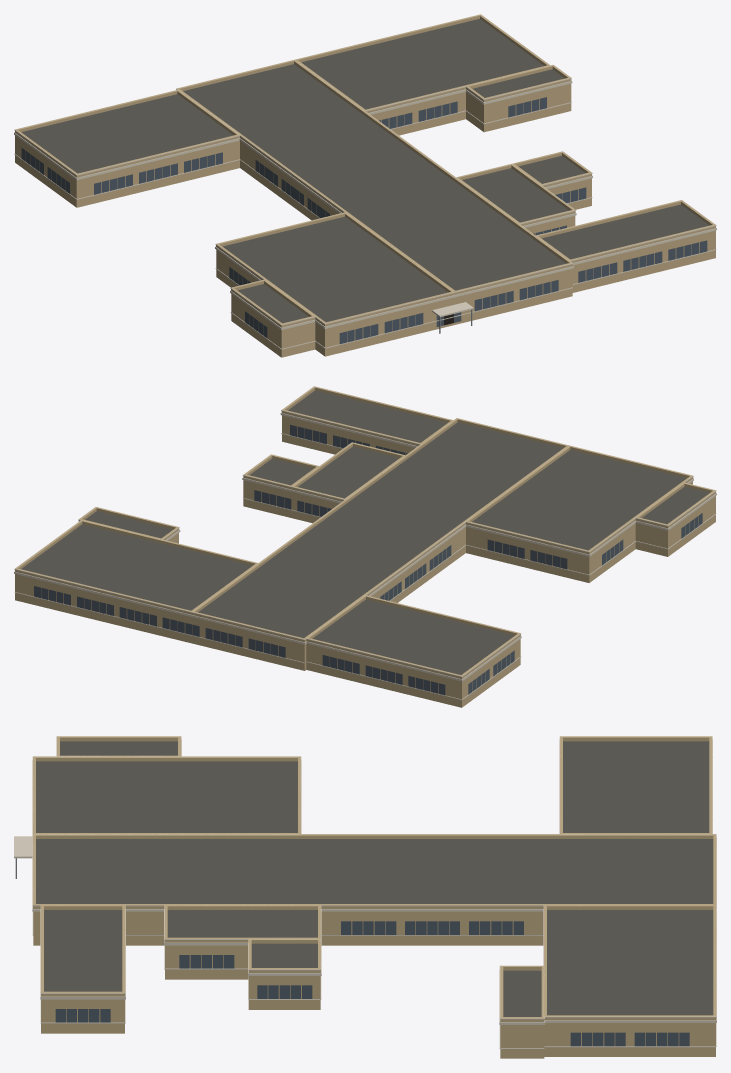
The model's file is pulaski-tech-building-a-nlr.glb.
3 views of the same model, one above another, from view 1: azimuth 30°, elevation 25°; view 2: azimuth 150°, elevation 25°; view 3: azimuth 270°, elevation 25° (orthographic). The views are drawn at different scales.
Visible parts, largest first — view 1: pulaski_tech_building_a_nlr; view 2: pulaski_tech_building_a_nlr; view 3: pulaski_tech_building_a_nlr.
Boxes of the visible parts, left/top/right/bottom form: pulaski_tech_building_a_nlr: left=14, top=14, right=716, bottom=357; pulaski_tech_building_a_nlr: left=14, top=386, right=716, bottom=707; pulaski_tech_building_a_nlr: left=14, top=736, right=716, bottom=1058.
Size of the model in its own units: 83.74 by 5.6 by 88.02.
